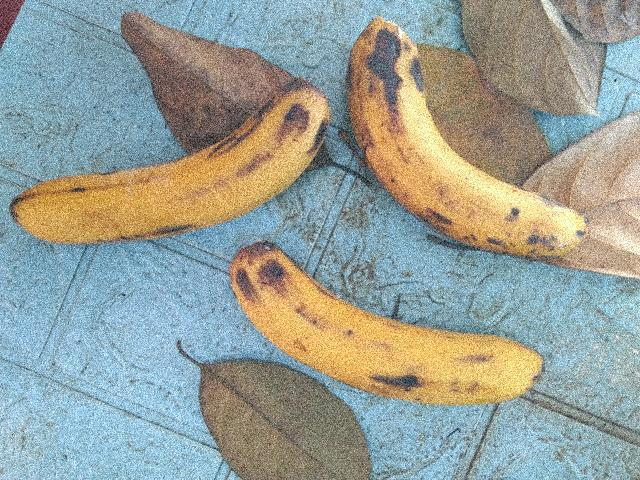overripe: (345, 15, 608, 268)
ripe: (210, 229, 546, 425), (12, 86, 320, 245)
